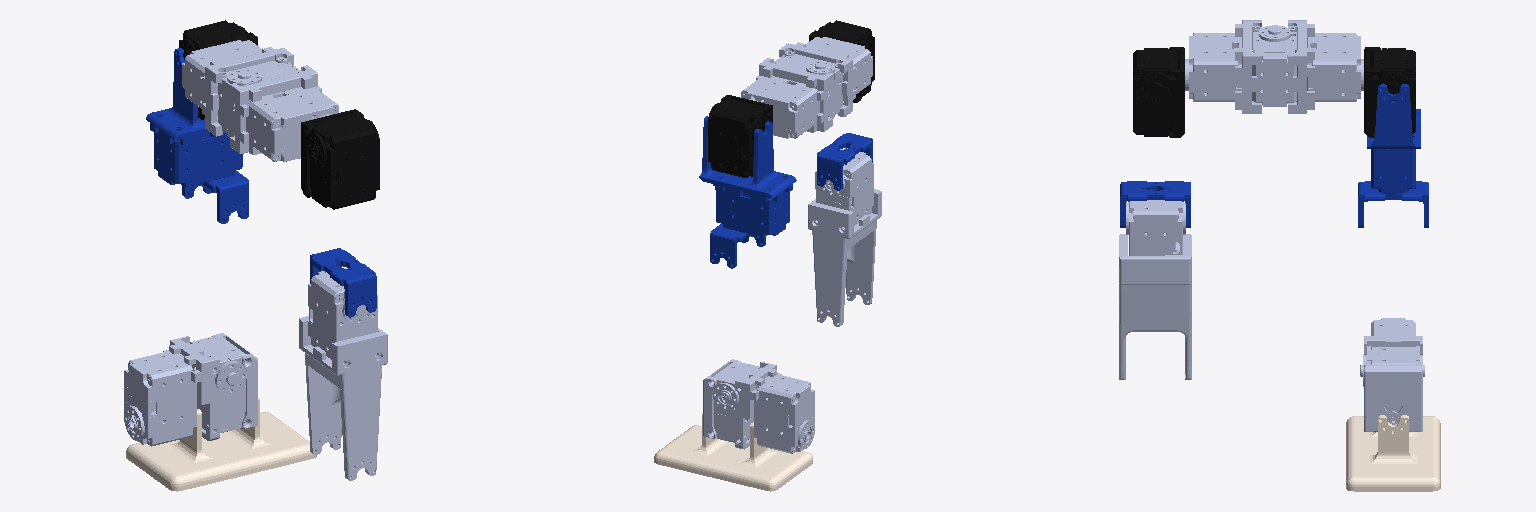
URDF robot description (test5):
<?xml version='1.0' encoding='utf-8'?>
<robot name="test5">
  <link name="base_link">
    <inertial>
      <origin xyz="0.0120880035261202 2.94264110080435E-06 0.000137700141155672" rpy="0 0 0" />
      <mass value="0.163337091846454" />
      <inertia ixx="2.42815705294321E-05" ixy="-4.40820055072968E-09" ixz="2.55503272044308E-07" iyy="4.43067202612924E-05" iyz="1.73779181711909E-08" izz="4.07272180194223E-05" />
      </inertial>
    <visual>
      <origin xyz="0 0 0" rpy="0 0 0" />
      <geometry>
        <mesh filename="meshes/base_link.STL" />
        </geometry>
      <material name="">
        <color rgba="0.792156862745098 0.819607843137255 0.933333333333333 1" />
        </material>
      </visual>
    <collision>
      <origin xyz="0 0 0" rpy="0 0 0" />
      <geometry>
        <mesh filename="meshes/base_link.STL" />
        </geometry>
      </collision>
    </link>
  <link name="Body_Link">
    <inertial>
      <origin xyz="0.0218668011738023 -0.000431568318375535 0.0541731946697097" rpy="0 0 0" />
      <mass value="0.386680464655816" />
      <inertia ixx="0.000620927600653991" ixy="-2.25457273666802E-07" ixz="4.9404229758268E-06" iyy="0.000390567916715494" iyz="1.70989555176229E-06" izz="0.00031070566913096" />
      </inertial>
    <visual>
      <origin xyz="0 0 0" rpy="0 0 0" />
      <geometry>
        <mesh filename="meshes/Body_Link.STL" />
        </geometry>
      <material name="">
        <color rgba="0.752941176470588 0.752941176470588 0.752941176470588 1" />
        </material>
      </visual>
    <collision>
      <origin xyz="0 0 0" rpy="0 0 0" />
      <geometry>
        <mesh filename="meshes/Body_Link.STL" />
        </geometry>
      </collision>
    </link>
  <joint name="Body_Yaw_Joint" type="revolute">
    <origin xyz="0 0 0.0205" rpy="0 0 0" />
    <parent link="base_link" />
    <child link="Body_Link" />
    <axis xyz="0 0 1" />
    <limit lower="-3.142" upper="3.142" effort="0" velocity="0" />
    </joint>
  <link name="L_Hip_Pitch_Link">
    <inertial>
      <origin xyz="0.000393520865845574 0.0117226185476305 0.0166926526043892" rpy="0 0 0" />
      <mass value="0.0503140117431749" />
      <inertia ixx="1.11934938325154E-05" ixy="2.6206995491784E-07" ixz="3.05048556039066E-09" iyy="7.37974976874462E-06" iyz="-6.14897669495619E-09" izz="1.31723971411949E-05" />
      </inertial>
    <visual>
      <origin xyz="0 0 0" rpy="0 0 0" />
      <geometry>
        <mesh filename="meshes/L_Hip_Pitch_Link.STL" />
        </geometry>
      <material name="">
        <color rgba="0.109803921568627 0.109803921568627 0.109803921568627 1" />
        </material>
      </visual>
    <collision>
      <origin xyz="0 0 0" rpy="0 0 0" />
      <geometry>
        <mesh filename="meshes/L_Hip_Pitch_Link.STL" />
        </geometry>
      </collision>
    </link>
  <joint name="L_Hip_Pitch_Joint" type="revolute">
    <origin xyz="0.024 0.05675 0" rpy="-1.5708 0 0" />
    <parent link="base_link" />
    <child link="L_Hip_Pitch_Link" />
    <axis xyz="0 0 1" />
    <limit lower="-1.571" upper="1.571" effort="0" velocity="0" />
    </joint>
  <link name="L_Hip_Roll_Link">
    <inertial>
      <origin xyz="8.30740041593558E-06 -0.0539730760978964 -0.0289917248021264" rpy="0 0 0" />
      <mass value="0.0577821503558218" />
      <inertia ixx="1.85527228913837E-05" ixy="-5.23614239677214E-09" ixz="4.41459779136405E-09" iyy="1.6254327826533E-05" iyz="-3.61812326643561E-07" izz="9.78707268328593E-06" />
      </inertial>
    <visual>
      <origin xyz="0 0 0" rpy="0 0 0" />
      <geometry>
        <mesh filename="meshes/L_Hip_Roll_Link.STL" />
        </geometry>
      <material name="">
        <color rgba="0.137254901960784 0.294117647058824 0.749019607843137 1" />
        </material>
      </visual>
    <collision>
      <origin xyz="0 0 0" rpy="0 0 0" />
      <geometry>
        <mesh filename="meshes/L_Hip_Roll_Link.STL" />
        </geometry>
      </collision>
    </link>
  <joint name="L_Hip_Roll_Joint" type="revolute">
    <origin xyz="0.019 0 0.01875" rpy="3.1416 -1.5708 0" />
    <parent link="L_Hip_Pitch_Link" />
    <child link="L_Hip_Roll_Link" />
    <axis xyz="0 0 1" />
    <limit lower="-0.786" upper="3.142" effort="0" velocity="0" />
    </joint>
  <link name="L_Hip_Yaw_Link">
    <inertial>
      <origin xyz="1.38777878078145E-17 -1.38777878078145E-17 0.00625275879894567" rpy="0 0 0" />
      <mass value="0.00558246650899707" />
      <inertia ixx="1.83396034792803E-06" ixy="3.60886450592669E-13" ixz="8.98479363618178E-23" iyy="4.55463603177526E-07" iyz="4.86573564939465E-22" izz="1.84259526538467E-06" />
      </inertial>
    <visual>
      <origin xyz="0 0 0" rpy="0 0 0" />
      <geometry>
        <mesh filename="meshes/L_Hip_Yaw_Link.STL" />
        </geometry>
      <material name="">
        <color rgba="0.137254901960784 0.294117647058824 0.749019607843137 1" />
        </material>
      </visual>
    <collision>
      <origin xyz="0 0 0" rpy="0 0 0" />
      <geometry>
        <mesh filename="meshes/L_Hip_Yaw_Link.STL" />
        </geometry>
      </collision>
    </link>
  <joint name="L_Hip_Yaw_Joint" type="revolute">
    <origin xyz="0 -0.07925 -0.019" rpy="1.5708 -1.5708 0" />
    <parent link="L_Hip_Roll_Link" />
    <child link="L_Hip_Yaw_Link" />
    <axis xyz="0 0 1" />
    <limit lower="-3.142" upper="3.142" effort="0" velocity="0" />
    </joint>
  <link name="L_Knee_Pitch_Link">
    <inertial>
      <origin xyz="0.000851922444856955 0.0302265598825809 -0.0188367597643943" rpy="0 0 0" />
      <mass value="0.0859142330719074" />
      <inertia ixx="3.92786008778373E-05" ixy="8.67680165639185E-08" ixz="-5.38359326172352E-09" iyy="2.10807528817828E-05" iyz="2.55452824625612E-07" izz="3.03814272871544E-05" />
      </inertial>
    <visual>
      <origin xyz="0 0 0" rpy="0 0 0" />
      <geometry>
        <mesh filename="meshes/L_Knee_Pitch_Link.STL" />
        </geometry>
      <material name="">
        <color rgba="0.792156862745098 0.819607843137255 0.933333333333333 1" />
        </material>
      </visual>
    <collision>
      <origin xyz="0 0 0" rpy="0 0 0" />
      <geometry>
        <mesh filename="meshes/L_Knee_Pitch_Link.STL" />
        </geometry>
      </collision>
    </link>
  <joint name="L_Knee_Pitch_Joint" type="revolute">
    <origin xyz="0 -0.019 0.02125" rpy="1.5708 0 0" />
    <parent link="L_Hip_Yaw_Link" />
    <child link="L_Knee_Pitch_Link" />
    <axis xyz="0 0 1" />
    <limit lower="-1.571" upper="1.571" effort="0" velocity="0" />
    </joint>
  <link name="L_Ankle_Pitch_Link">
    <inertial>
      <origin xyz="-0.0163209351577764 -0.0112732070267725 -0.0187770389076161" rpy="0 0 0" />
      <mass value="0.10289318099601" />
      <inertia ixx="2.63371352901457E-05" ixy="4.98388229906309E-07" ixz="1.05126028692761E-08" iyy="1.51681275400878E-05" iyz="-2.59277389916221E-07" izz="2.42013656254686E-05" />
      </inertial>
    <visual>
      <origin xyz="0 0 0" rpy="0 0 0" />
      <geometry>
        <mesh filename="meshes/L_Ankle_Pitch_Link.STL" />
        </geometry>
      <material name="">
        <color rgba="0.792156862745098 0.819607843137255 0.933333333333333 1" />
        </material>
      </visual>
    <collision>
      <origin xyz="0 0 0" rpy="0 0 0" />
      <geometry>
        <mesh filename="meshes/L_Ankle_Pitch_Link.STL" />
        </geometry>
      </collision>
    </link>
  <joint name="L_Ankle_Pitch_Joint" type="revolute">
    <origin xyz="0 0.1065 -0.0382" rpy="3.1416 0 0" />
    <parent link="L_Knee_Pitch_Link" />
    <child link="L_Ankle_Pitch_Link" />
    <axis xyz="0 0 1" />
    <limit lower="-1.571" upper="1.571" effort="0" velocity="0" />
    </joint>
  <link name="L_Ankle_Roll_Link">
    <inertial>
      <origin xyz="-0.00738189972311876 -0.0302538242168854 0.0224329681837724" rpy="0 0 0" />
      <mass value="0.199941915686484" />
      <inertia ixx="0.000160746415074451" ixy="8.01445130149222E-12" ixz="1.37527554784775E-10" iyy="0.000207710045474122" iyz="1.51281801387757E-07" izz="5.92078764405586E-05" />
      </inertial>
    <visual>
      <origin xyz="0 0 0" rpy="0 0 0" />
      <geometry>
        <mesh filename="meshes/L_Ankle_Roll_Link.STL" />
        </geometry>
      <material name="">
        <color rgba="1 0.949019607843137 0.898039215686275 1" />
        </material>
      </visual>
    <collision>
      <origin xyz="0 0 0" rpy="0 0 0" />
      <geometry>
        <mesh filename="meshes/L_Ankle_Roll_Link.STL" />
        </geometry>
      </collision>
    </link>
  <joint name="L_Ankle_Roll_Joint" type="revolute">
    <origin xyz="-0.01875 -0.024 -0.026382" rpy="0 1.5708 0" />
    <parent link="L_Ankle_Pitch_Link" />
    <child link="L_Ankle_Roll_Link" />
    <axis xyz="0 0 1" />
    <limit lower="-1.571" upper="1.571" effort="0" velocity="0" />
    </joint>
  <link name="R_Hip_Pitch_Link">
    <inertial>
      <origin xyz="0.000500525943332226 -0.0117226185590269 0.0166735468963193" rpy="0 0 0" />
      <mass value="0.0503140117662099" />
      <inertia ixx="1.11934938447945E-05" ixy="-2.48936578501881E-07" ixz="-3.05049116650477E-09" iyy="7.37974977677535E-06" iyz="-2.66741813111063E-09" izz="1.31723971628094E-05" />
      </inertial>
    <visual>
      <origin xyz="0 0 0" rpy="0 0 0" />
      <geometry>
        <mesh filename="meshes/R_Hip_Pitch_Link.STL" />
        </geometry>
      <material name="">
        <color rgba="0.109803921568627 0.109803921568627 0.109803921568627 1" />
        </material>
      </visual>
    <collision>
      <origin xyz="0 0 0" rpy="0 0 0" />
      <geometry>
        <mesh filename="meshes/R_Hip_Pitch_Link.STL" />
        </geometry>
      </collision>
    </link>
  <joint name="R_Hip_Pitch_Joint" type="revolute">
    <origin xyz="0.024 -0.05675 0" rpy="1.5708 0 0" />
    <parent link="base_link" />
    <child link="R_Hip_Pitch_Link" />
    <axis xyz="0 0 1" />
    <limit lower="-1.571" upper="1.571" effort="0" velocity="0" />
    </joint>
  <link name="R_Hip_Roll_Link">
    <inertial>
      <origin xyz="-8.30740041608824E-06 0.0539730760978964 -0.0289917248021264" rpy="0 0 0" />
      <mass value="0.0577821503558218" />
      <inertia ixx="1.85527228913837E-05" ixy="-5.23614239677422E-09" ixz="-4.41459779135726E-09" iyy="1.6254327826533E-05" iyz="3.61812326643564E-07" izz="9.78707268328592E-06" />
      </inertial>
    <visual>
      <origin xyz="0 0 0" rpy="0 0 0" />
      <geometry>
        <mesh filename="meshes/R_Hip_Roll_Link.STL" />
        </geometry>
      <material name="">
        <color rgba="0.137254901960784 0.294117647058824 0.749019607843137 1" />
        </material>
      </visual>
    <collision>
      <origin xyz="0 0 0" rpy="0 0 0" />
      <geometry>
        <mesh filename="meshes/R_Hip_Roll_Link.STL" />
        </geometry>
      </collision>
    </link>
  <joint name="R_Hip_Roll_Joint" type="revolute">
    <origin xyz="0.019 0 0.01875" rpy="3.1416 -1.5708 0" />
    <parent link="R_Hip_Pitch_Link" />
    <child link="R_Hip_Roll_Link" />
    <axis xyz="0 0 1" />
    <limit lower="-3.142" upper="0.786" effort="0" velocity="0" />
    </joint>
  <link name="R_Hip_Yaw_Link">
    <inertial>
      <origin xyz="-6.10622663543836E-16 4.16333634234434E-17 0.0062527587989455" rpy="0 0 0" />
      <mass value="0.00558246650899706" />
      <inertia ixx="1.83396034792803E-06" ixy="3.60886450250366E-13" ixz="2.57013339786356E-23" iyy="4.55463603177526E-07" iyz="-2.7148095948254E-22" izz="1.84259526538467E-06" />
      </inertial>
    <visual>
      <origin xyz="0 0 0" rpy="0 0 0" />
      <geometry>
        <mesh filename="meshes/R_Hip_Yaw_Link.STL" />
        </geometry>
      <material name="">
        <color rgba="0.137254901960784 0.294117647058824 0.749019607843137 1" />
        </material>
      </visual>
    <collision>
      <origin xyz="0 0 0" rpy="0 0 0" />
      <geometry>
        <mesh filename="meshes/R_Hip_Yaw_Link.STL" />
        </geometry>
      </collision>
    </link>
  <joint name="R_Hip_Yaw_Joint" type="revolute">
    <origin xyz="0 0.07925 -0.019" rpy="1.5708 -1.5708 3.1416" />
    <parent link="R_Hip_Roll_Link" />
    <child link="R_Hip_Yaw_Link" />
    <axis xyz="0 0 1" />
    <limit lower="-3.142" upper="3.142" effort="0" velocity="0" />
    </joint>
  <link name="R_Knee_Pitch_Link">
    <inertial>
      <origin xyz="0.000863111334580453 -0.030226559882581 -0.0186396589895419" rpy="0 0 0" />
      <mass value="0.0859142330719075" />
      <inertia ixx="3.92786008778374E-05" ixy="-7.79516154624621E-08" ixz="5.38359326172702E-09" iyy="2.10807528817828E-05" iyz="-2.55553719463005E-07" izz="3.03814272871544E-05" />
      </inertial>
    <visual>
      <origin xyz="0 0 0" rpy="0 0 0" />
      <geometry>
        <mesh filename="meshes/R_Knee_Pitch_Link.STL" />
        </geometry>
      <material name="">
        <color rgba="0.792156862745098 0.819607843137255 0.933333333333333 1" />
        </material>
      </visual>
    <collision>
      <origin xyz="0 0 0" rpy="0 0 0" />
      <geometry>
        <mesh filename="meshes/R_Knee_Pitch_Link.STL" />
        </geometry>
      </collision>
    </link>
  <joint name="R_Knee_Pitch_Joint" type="revolute">
    <origin xyz="0 0.019 0.02125" rpy="-1.5708 0 0" />
    <parent link="R_Hip_Yaw_Link" />
    <child link="R_Knee_Pitch_Link" />
    <axis xyz="0 0 1" />
    <limit lower="-1.571" upper="1.571" effort="0" velocity="0" />
    </joint>
  <link name="R_Ankle_Pitch_Link">
    <inertial>
      <origin xyz="-0.0163302777131789 0.0112732070321218 -0.0187857787610097" rpy="0 0 0" />
      <mass value="0.102893180972975" />
      <inertia ixx="2.63371352688847E-05" ixy="-4.89571822831244E-07" ixz="-1.05126085921015E-08" iyy="1.51681275317499E-05" iyz="2.51729143571691E-07" izz="2.42013656139885E-05" />
      </inertial>
    <visual>
      <origin xyz="0 0 0" rpy="0 0 0" />
      <geometry>
        <mesh filename="meshes/R_Ankle_Pitch_Link.STL" />
        </geometry>
      <material name="">
        <color rgba="0.792156862745098 0.819607843137255 0.933333333333333 1" />
        </material>
      </visual>
    <collision>
      <origin xyz="0 0 0" rpy="0 0 0" />
      <geometry>
        <mesh filename="meshes/R_Ankle_Pitch_Link.STL" />
        </geometry>
      </collision>
    </link>
  <joint name="R_Ankle_Pitch_Joint" type="revolute">
    <origin xyz="0 -0.1065 -0.0378" rpy="3.1416 0 0" />
    <parent link="R_Knee_Pitch_Link" />
    <child link="R_Ankle_Pitch_Link" />
    <axis xyz="0 0 1" />
    <limit lower="-1.571" upper="1.571" effort="0" velocity="0" />
    </joint>
  <link name="R_Ankle_Roll_Link">
    <inertial>
      <origin xyz="2.26157542693173E-09 -0.0302538242168839 0.0224329681837727" rpy="0 0 0" />
      <mass value="0.199941915686484" />
      <inertia ixx="0.000160746415074451" ixy="8.01445140977793E-12" ixz="1.37527554568138E-10" iyy="0.000207710045474122" iyz="1.51281801387953E-07" izz="5.92078764405586E-05" />
      </inertial>
    <visual>
      <origin xyz="0 0 0" rpy="0 0 0" />
      <geometry>
        <mesh filename="meshes/R_Ankle_Roll_Link.STL" />
        </geometry>
      <material name="">
        <color rgba="1 0.949019607843137 0.898039215686275 1" />
        </material>
      </visual>
    <collision>
      <origin xyz="0 0 0" rpy="0 0 0" />
      <geometry>
        <mesh filename="meshes/R_Ankle_Roll_Link.STL" />
        </geometry>
      </collision>
    </link>
  <joint name="R_Ankle_Roll_Joint" type="revolute">
    <origin xyz="-0.01875 0.024 -0.019" rpy="0 -1.5708 3.1416" />
    <parent link="R_Ankle_Pitch_Link" />
    <child link="R_Ankle_Roll_Link" />
    <axis xyz="0 0 1" />
    <limit lower="-1.571" upper="1.571" effort="0" velocity="0" />
    </joint>
  </robot>

--- Facts derived from the render (not from the file) ---
Views: 3 orthographic renders of the robot side by side, from view 1: azimuth 30°, elevation 25°; view 2: azimuth 150°, elevation 25°; view 3: azimuth 270°, elevation 25°.
Model test5 with 14 links and 13 joints (13 revolute), rooted at base_link, posed every joint at zero.
Links seen in each view (by area): view 1: R_Knee_Pitch_Link, base_link, L_Ankle_Pitch_Link, L_Ankle_Roll_Link, R_Hip_Pitch_Link, L_Hip_Roll_Link, R_Hip_Yaw_Link, L_Hip_Yaw_Link, L_Hip_Pitch_Link; view 2: R_Knee_Pitch_Link, base_link, L_Ankle_Pitch_Link, L_Hip_Roll_Link, L_Ankle_Roll_Link, L_Hip_Pitch_Link, R_Hip_Yaw_Link, R_Hip_Pitch_Link, L_Hip_Yaw_Link; view 3: base_link, R_Knee_Pitch_Link, L_Ankle_Roll_Link, L_Ankle_Pitch_Link, R_Hip_Pitch_Link, L_Hip_Roll_Link, L_Hip_Pitch_Link, R_Hip_Yaw_Link, L_Hip_Yaw_Link.
Link boxes in pixels (x1,y1,x2,y2): R_Knee_Pitch_Link: [299, 268, 387, 480]; base_link: [182, 40, 338, 161]; L_Ankle_Pitch_Link: [124, 333, 257, 446]; L_Ankle_Roll_Link: [126, 396, 316, 491]; R_Hip_Pitch_Link: [301, 109, 379, 209]; L_Hip_Roll_Link: [146, 48, 242, 186]; R_Hip_Yaw_Link: [310, 248, 376, 317]; L_Hip_Yaw_Link: [182, 171, 248, 223]; L_Hip_Pitch_Link: [179, 20, 257, 119]; R_Knee_Pitch_Link: [808, 148, 881, 326]; base_link: [741, 37, 872, 138]; L_Ankle_Pitch_Link: [703, 359, 814, 453]; L_Hip_Roll_Link: [699, 116, 796, 236]; L_Ankle_Roll_Link: [654, 412, 812, 491]; L_Hip_Pitch_Link: [708, 95, 772, 177]; R_Hip_Yaw_Link: [817, 133, 872, 190]; R_Hip_Pitch_Link: [809, 20, 874, 102]; L_Hip_Yaw_Link: [710, 224, 765, 268]; base_link: [1185, 20, 1363, 113]; R_Knee_Pitch_Link: [1119, 200, 1191, 379]; L_Ankle_Roll_Link: [1346, 415, 1440, 491]; L_Ankle_Pitch_Link: [1360, 318, 1424, 431]; R_Hip_Pitch_Link: [1133, 47, 1184, 137]; L_Hip_Roll_Link: [1367, 84, 1420, 194]; L_Hip_Pitch_Link: [1364, 47, 1415, 137]; R_Hip_Yaw_Link: [1120, 181, 1190, 227]; L_Hip_Yaw_Link: [1358, 181, 1428, 227].
Size in the robot's own frame: 0.1115 by 0.204 by 0.2874 metres.
9 mesh visuals loaded from 14 distinct referenced files (9 binary STL); not drawn: 5 (reference not matched to a file when rendering).
